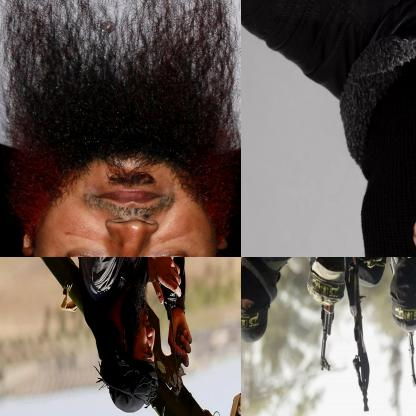rifle: (0, 257, 240, 415), (336, 257, 378, 415), (305, 295, 337, 382), (405, 316, 415, 393)
